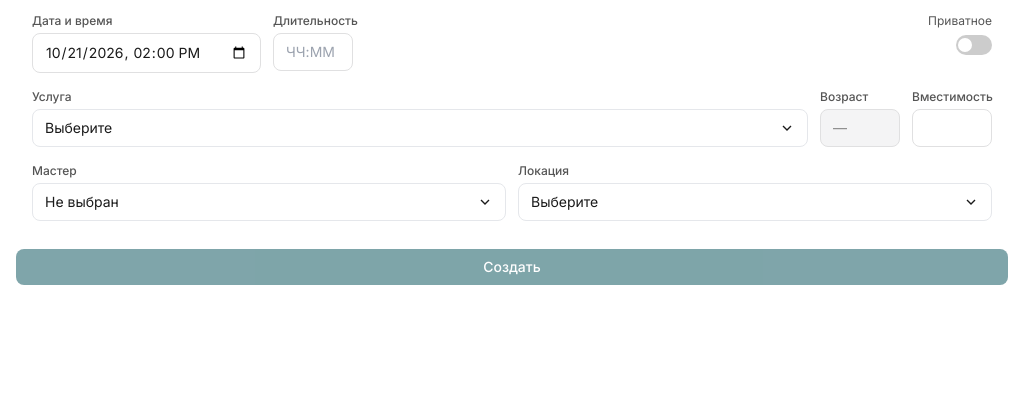
Test case: CreateActivityTab (create-режим общего ActivityForm, GH #280) › auto-fills capacity from location.defaultCapacity; re-selection overwrites
Click the button with test id "combobox-trigger" below "Локация": click(565, 202) [518, 183, 992, 221]
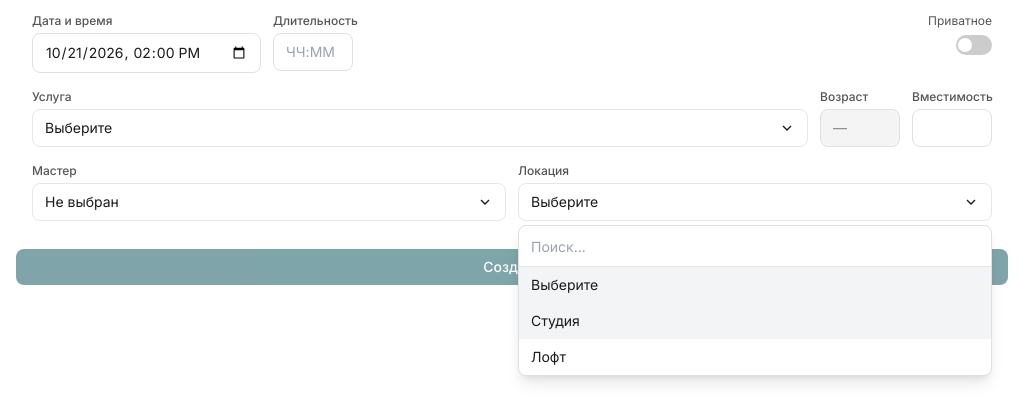
Click the option "Студия": click(555, 320) [519, 303, 991, 339]
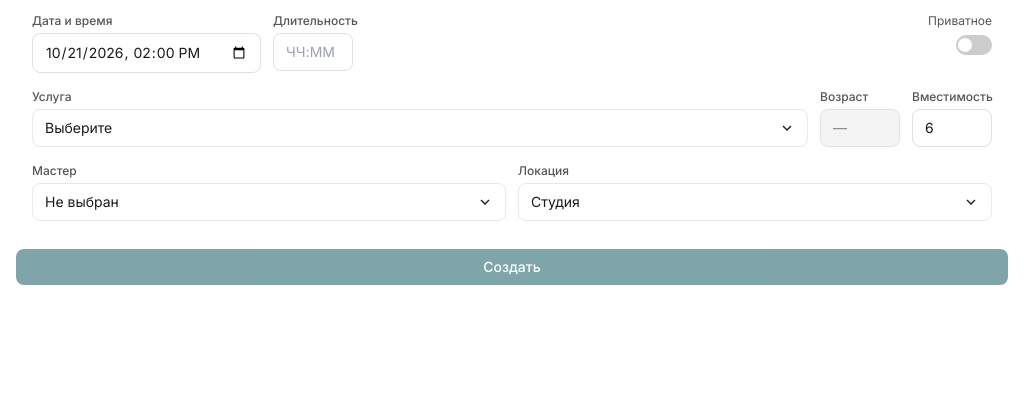
Expected: the number field with test id "create-capacity" holds "6", [912, 109, 992, 147]
Click the button with test id "combobox-trigger" showing "Студия": click(555, 202) [518, 183, 992, 221]
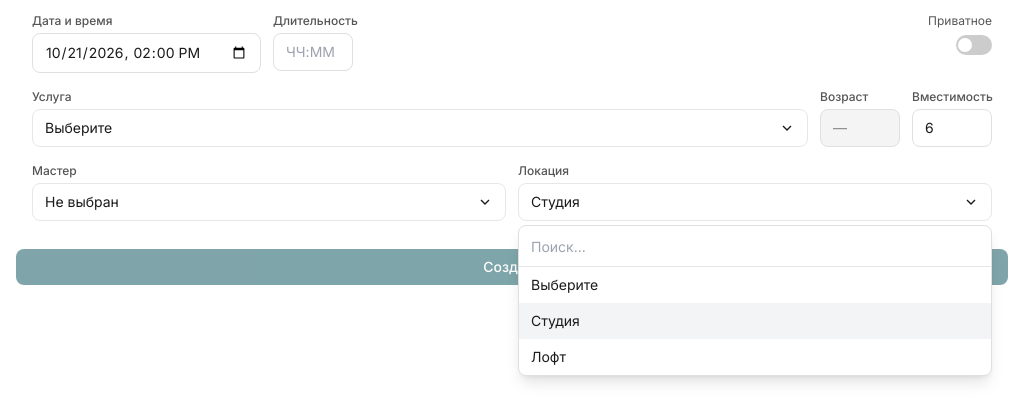
Click the option "Лофт": click(549, 356) [519, 339, 991, 375]
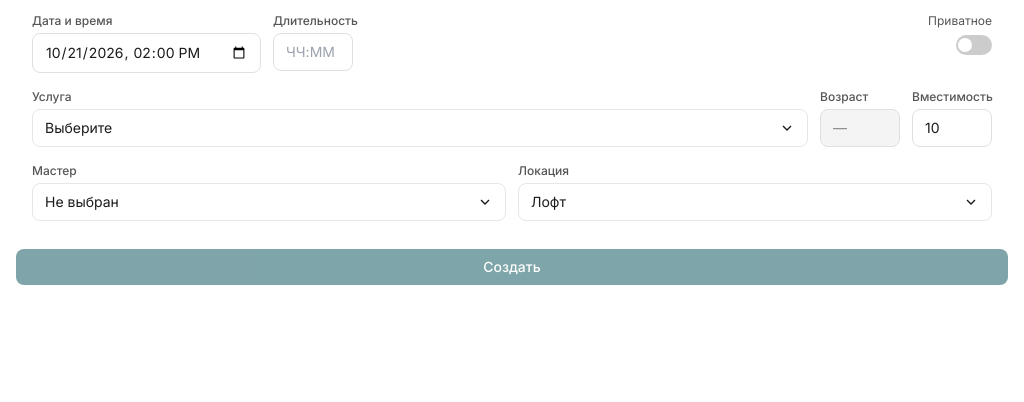
Expected: the number field with test id "create-capacity" holds "10", [912, 109, 992, 147]
